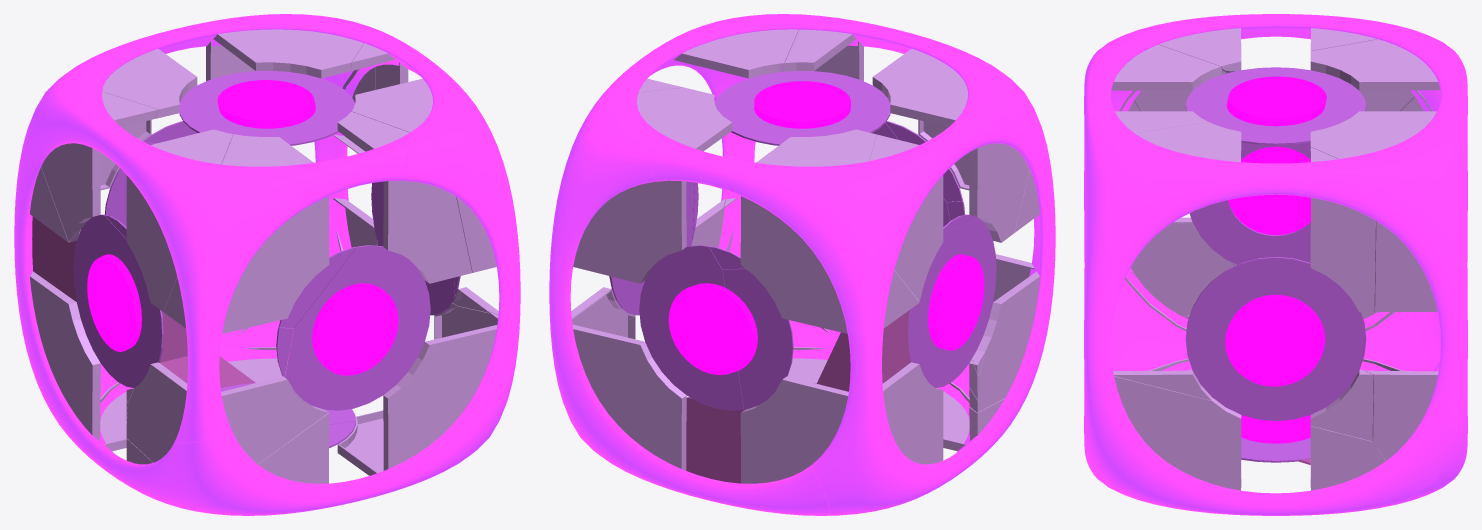
The model's file is BrokenBoxTwo.fbx.
3 renders of one model, left to right at view 1: azimuth 30°, elevation 25°; view 2: azimuth 150°, elevation 25°; view 3: azimuth 270°, elevation 25°, orthographic.
Parts seen in each view (by area): view 1: Cube.001_cell, Cube.001_cell.002, 円.003, Cube.001_cell.001, 円_cell.004, 円.001_cell.010, 円_cell.002, 円_cell.013, 円_cell.012, 円_cell.009, Cube.001_cell.003, 円_cell.001 (+18 smaller); view 2: Cube.001_cell, Cube.001_cell.002, 円.003, Cube.001_cell.003, 円_cell.009, 円_cell.001, 円_cell.007, 円_cell.008, Cube.001_cell.004, 円.001_cell.009, 円_cell.005, 円_cell.013 (+15 smaller); view 3: Cube.001_cell.002, 円.003, 円.001_cell, Cube.001_cell, 円_cell.004, 円_cell.001, 円.001_cell.001, Cube.001_cell.003, 円_cell.014, 円_cell.013, 円_cell.007, 円.001_cell.012 (+13 smaller).
Part boxes in pixels (<box>): Cube.001_cell: <box>15,17,407,442</box>; Cube.001_cell.002: <box>242,14,520,443</box>; 円.003: <box>87,80,398,375</box>; Cube.001_cell.001: <box>165,418,483,515</box>; 円_cell.004: <box>337,303,498,475</box>; 円.001_cell.010: <box>285,245,430,410</box>; 円_cell.002: <box>164,134,329,333</box>; 円_cell.013: <box>126,362,328,464</box>; 円_cell.012: <box>337,111,472,283</box>; 円_cell.009: <box>29,271,133,451</box>; Cube.001_cell.003: <box>14,206,176,503</box>; 円_cell.001: <box>206,29,375,153</box>; Cube.001_cell: <box>650,19,1055,338</box>; Cube.001_cell.002: <box>549,14,851,407</box>; 円.003: <box>668,81,984,374</box>; Cube.001_cell.003: <box>810,326,1035,515</box>; 円_cell.009: <box>740,362,943,483</box>; 円_cell.001: <box>573,87,732,283</box>; 円_cell.007: <box>740,129,919,333</box>; 円_cell.008: <box>571,291,686,470</box>; Cube.001_cell.004: <box>564,369,829,515</box>; 円.001_cell.009: <box>639,245,743,410</box>; 円_cell.005: <box>890,83,1029,242</box>; 円_cell.013: <box>969,254,1039,412</box>; Cube.001_cell.002: <box>1084,116,1467,515</box>; 円.003: <box>1225,76,1326,443</box>; 円.001_cell: <box>1192,256,1365,421</box>; Cube.001_cell: <box>1084,14,1467,272</box>; 円_cell.004: <box>1113,371,1241,490</box>; 円_cell.001: <box>1310,111,1437,312</box>; 円.001_cell.001: <box>1185,67,1366,145</box>; Cube.001_cell.003: <box>1132,153,1467,371</box>; 円_cell.014: <box>1310,147,1375,312</box>; 円_cell.013: <box>1125,217,1236,317</box>; 円_cell.007: <box>1310,39,1440,111</box>; 円.001_cell.012: <box>1189,142,1310,264</box>.
Bounding box in the file's own units: 203 × 203 × 203.
